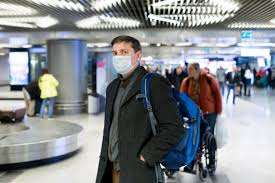masked: (107, 36, 142, 78)
